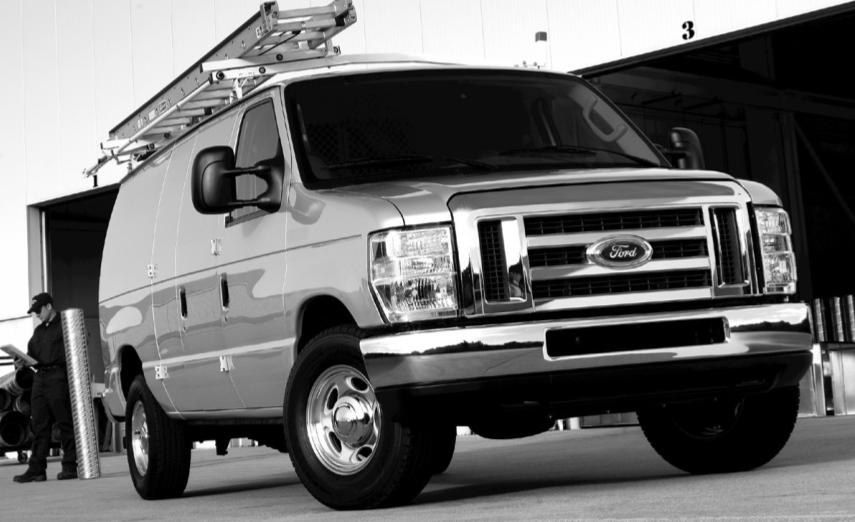car: (96, 49, 813, 514)
